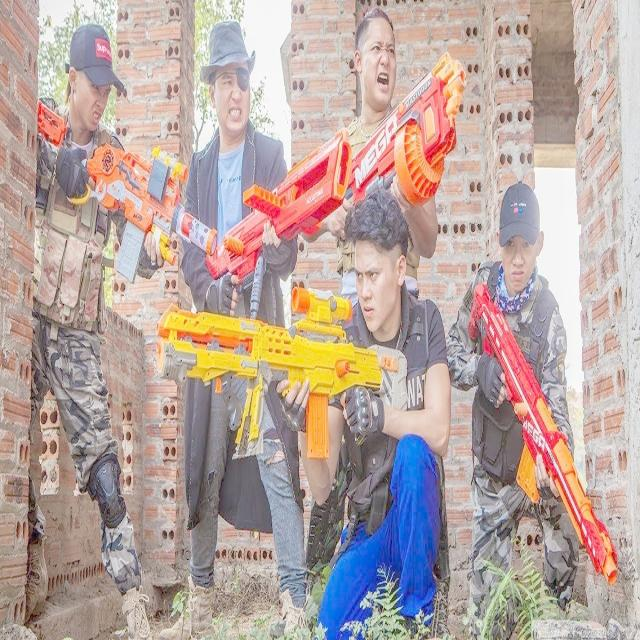Nerf gun: (462, 284, 620, 590), (152, 284, 400, 470), (32, 94, 216, 290), (208, 131, 354, 278), (344, 53, 474, 207)
